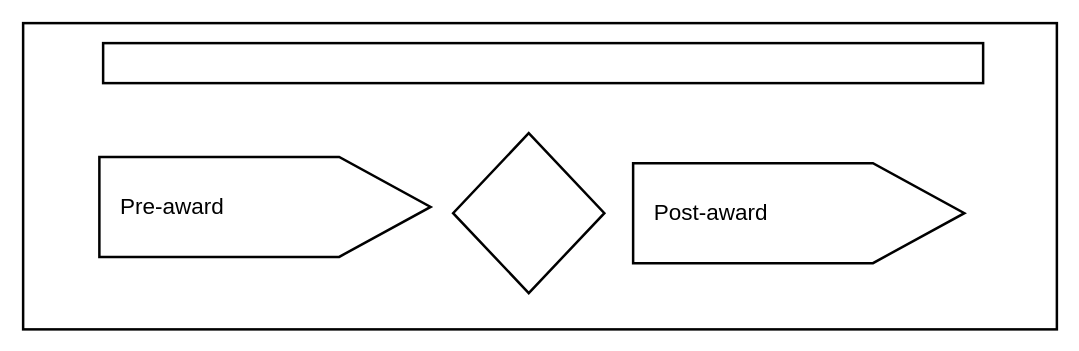
Image size: 1079x351. Some labels were removed from this diagram. The box of each missing label's shape, as (x1, y1, x2, y2) in pixels:
Contract signature: (451, 131, 605, 294)
Procurement Process: (101, 41, 984, 84)
